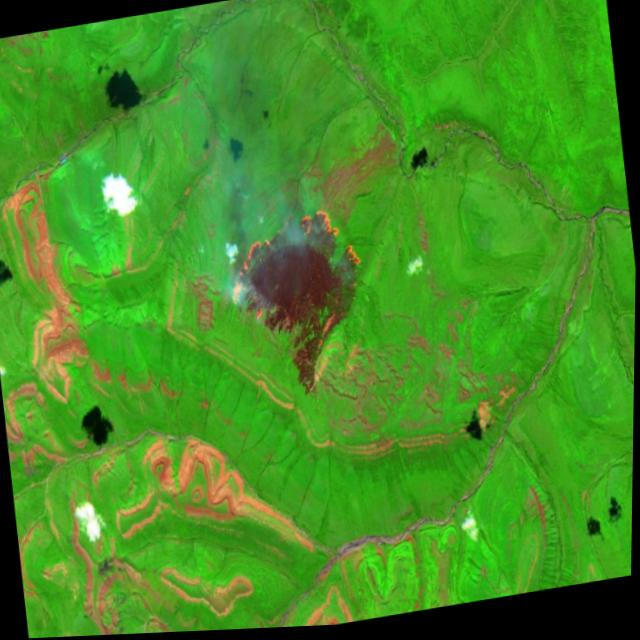fire: (217, 201, 369, 333)
